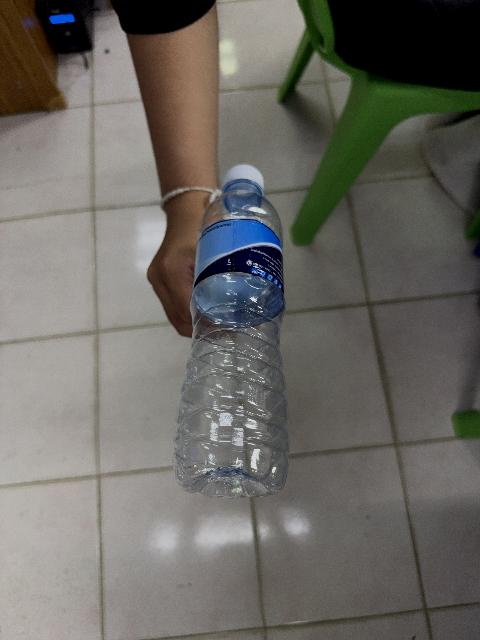bottle: (174, 165, 289, 497)
